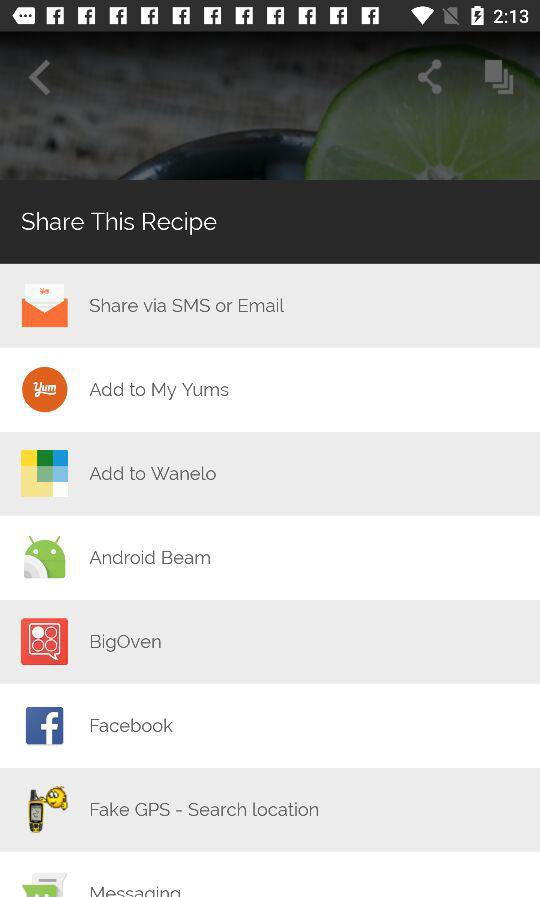Icon: (26, 706, 65, 746), (484, 61, 514, 97), (417, 59, 443, 96), (30, 60, 52, 97)
Image: (21, 617, 70, 666), (21, 450, 69, 498), (22, 367, 69, 413), (22, 283, 69, 328), (28, 785, 70, 834), (24, 535, 67, 580), (22, 871, 69, 897)
Modal: (1, 181, 540, 897)
Text: (21, 211, 218, 237), (90, 801, 320, 818), (90, 298, 285, 314), (90, 381, 230, 401), (89, 465, 218, 482), (90, 549, 212, 566), (91, 633, 163, 654), (91, 717, 175, 734), (91, 885, 181, 897)
UpperTaskBar: (1, 1, 540, 33)
